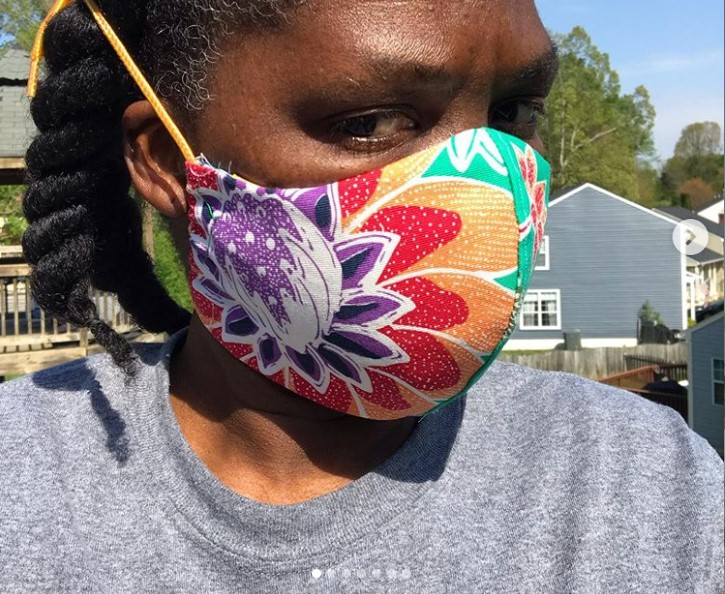face_with_mask: (22, 7, 563, 423)
